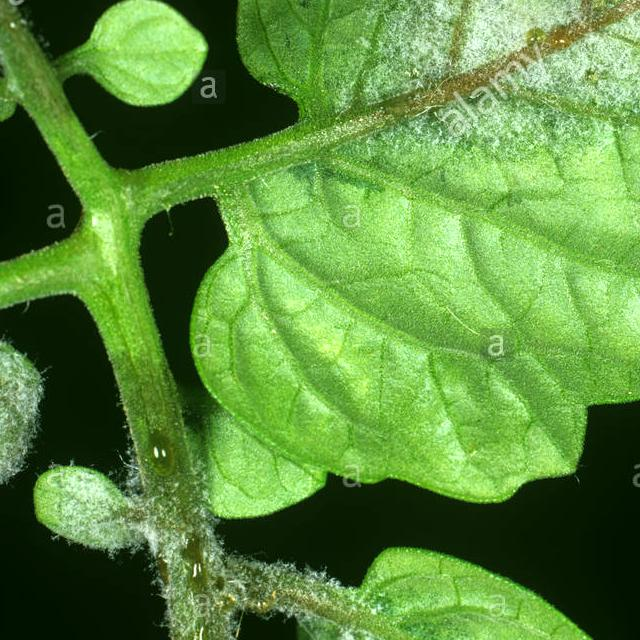Tomato leaf late blight: (146, 0, 640, 512)
